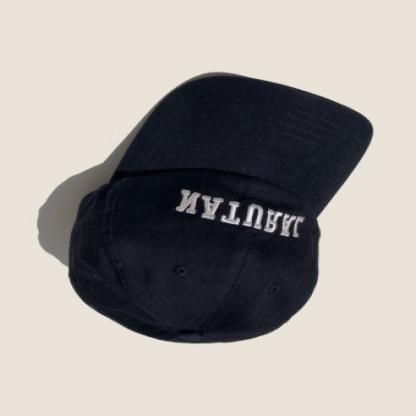cap: (53, 70, 387, 352)
